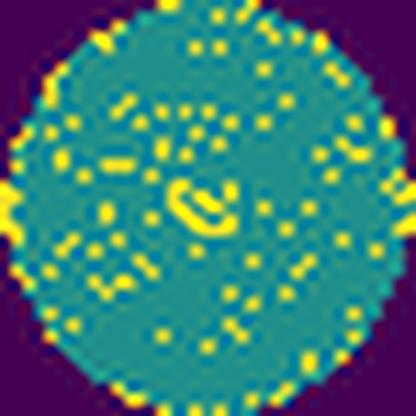Center: (161, 172, 239, 242)
